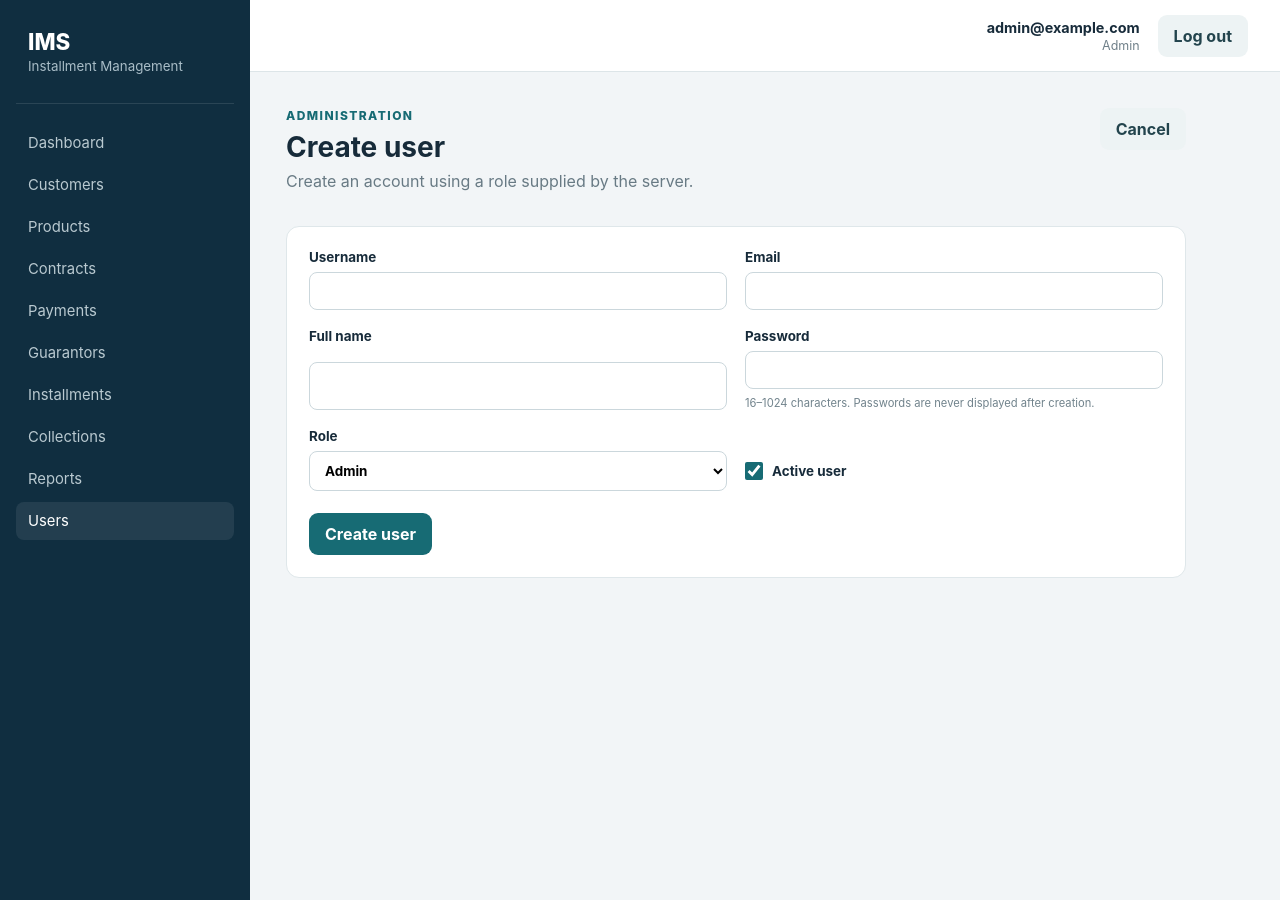
Scenario: Users management › creates with the exact DTO and backend role options
Step 1. Type "new-user" into the field labelled "Username" → (518, 291), box top-left (309, 272), bottom-right (727, 310)
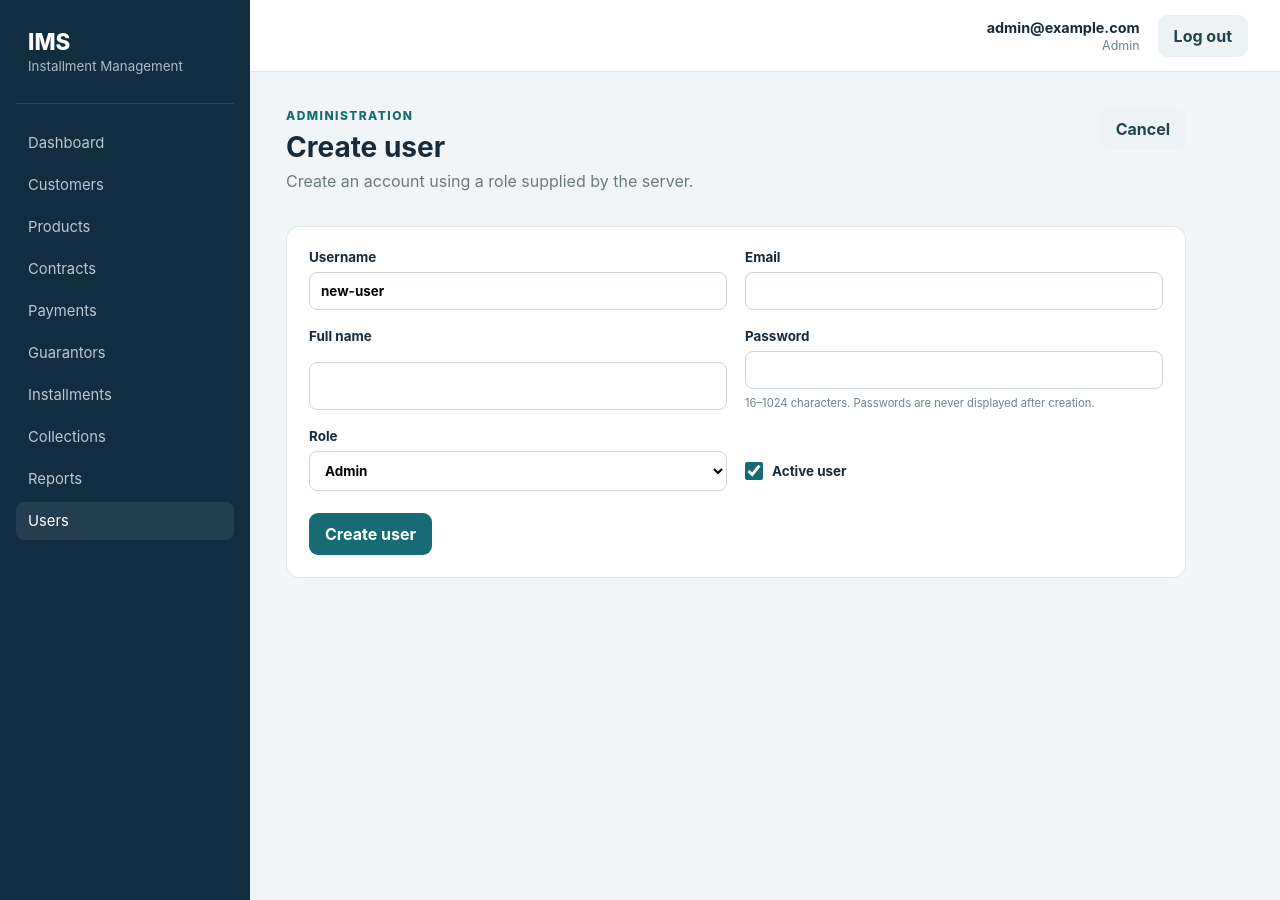
Step 2. Type "new@example.com" into the field labelled "Email" → (954, 291), box top-left (745, 272), bottom-right (1163, 310)
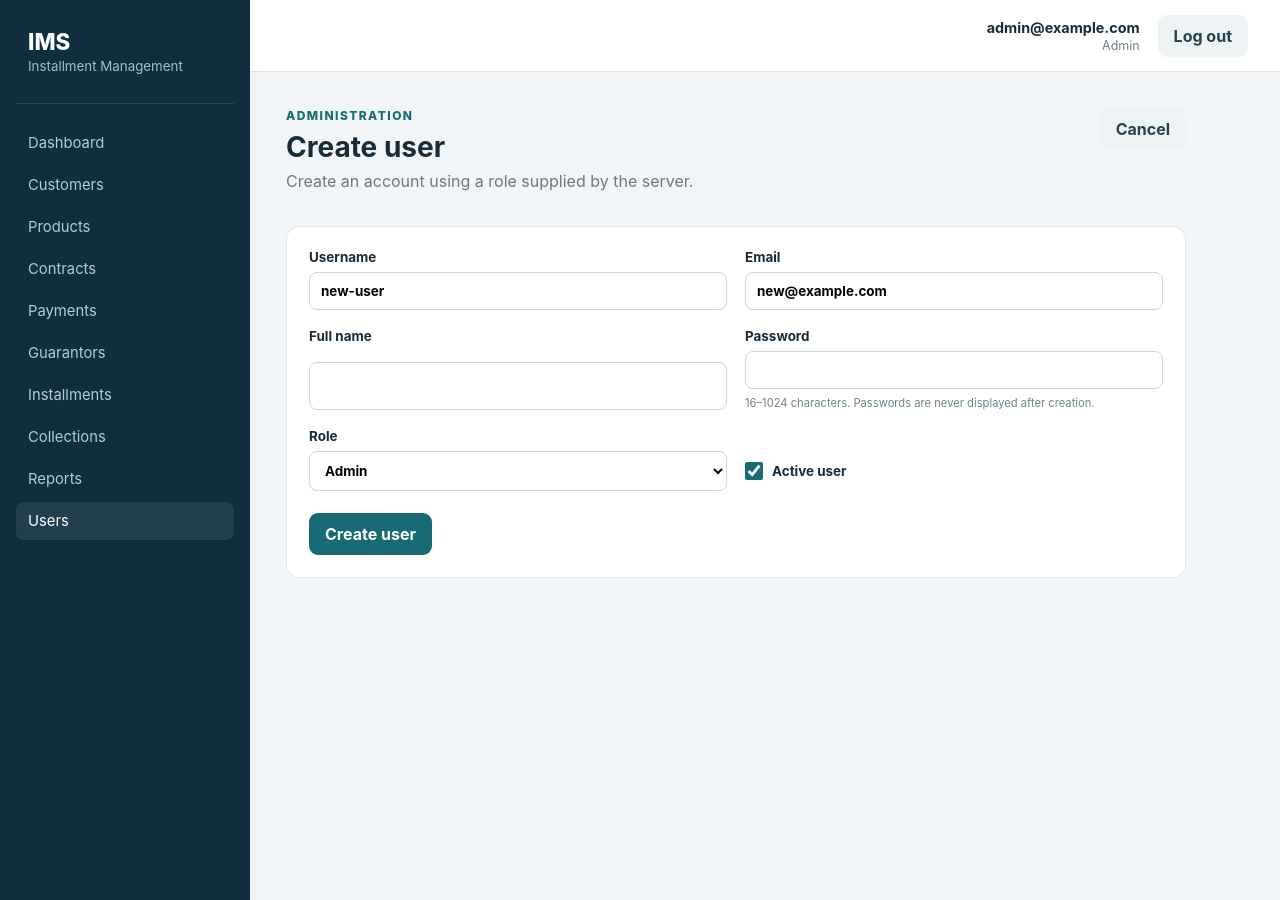
Step 3. Type "New User" into the field labelled "Full name" → (518, 386), box top-left (309, 362), bottom-right (727, 410)
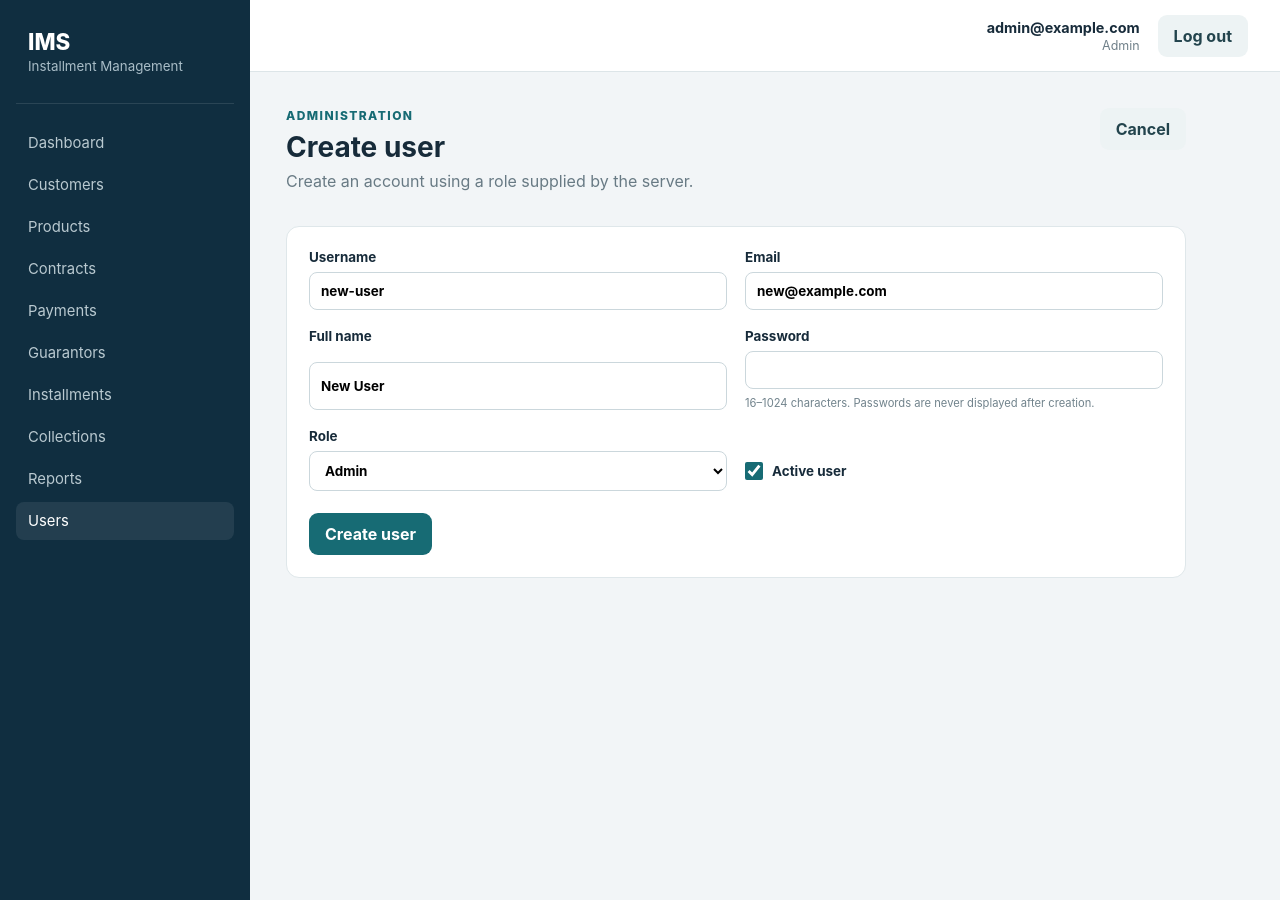
Step 4. Type "sixteen-character-password" into the password field labelled "Password" → (954, 370), box top-left (745, 351), bottom-right (1163, 389)
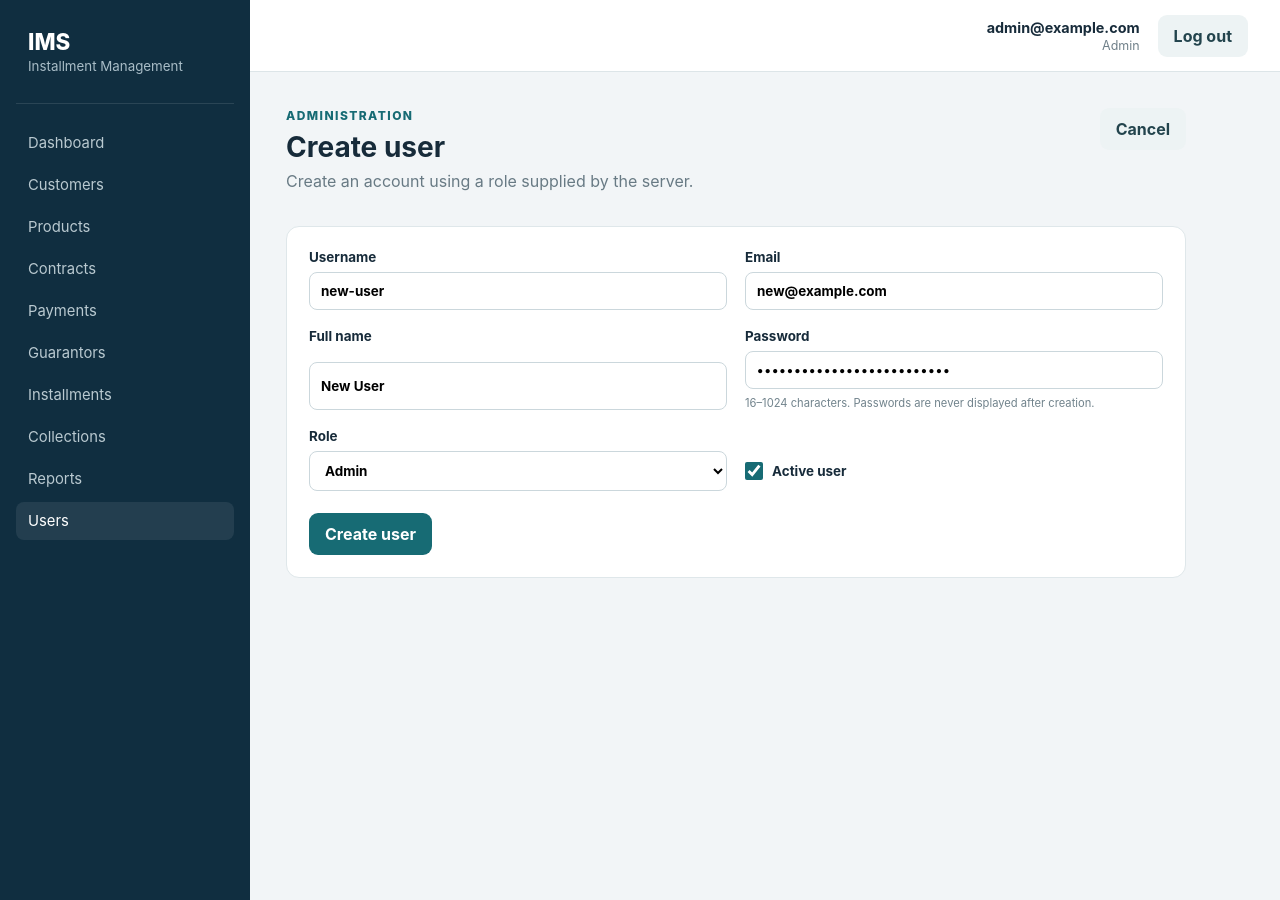
Step 5. Select "Auditor" in the dropdown labelled "Role" → (518, 471), box top-left (309, 451), bottom-right (727, 491)
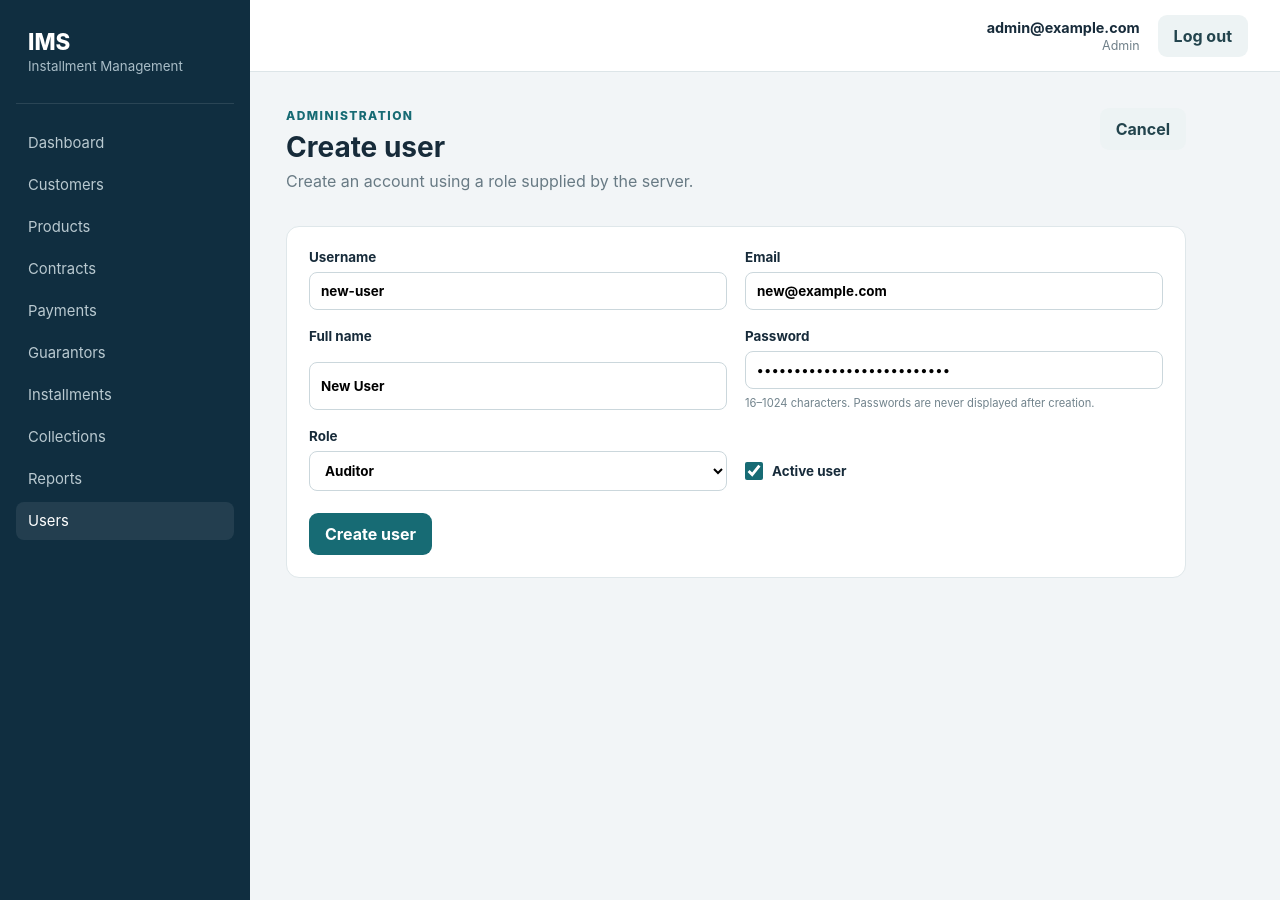
Step 6. Click the button "Create user" → (370, 534), box top-left (309, 513), bottom-right (432, 555)
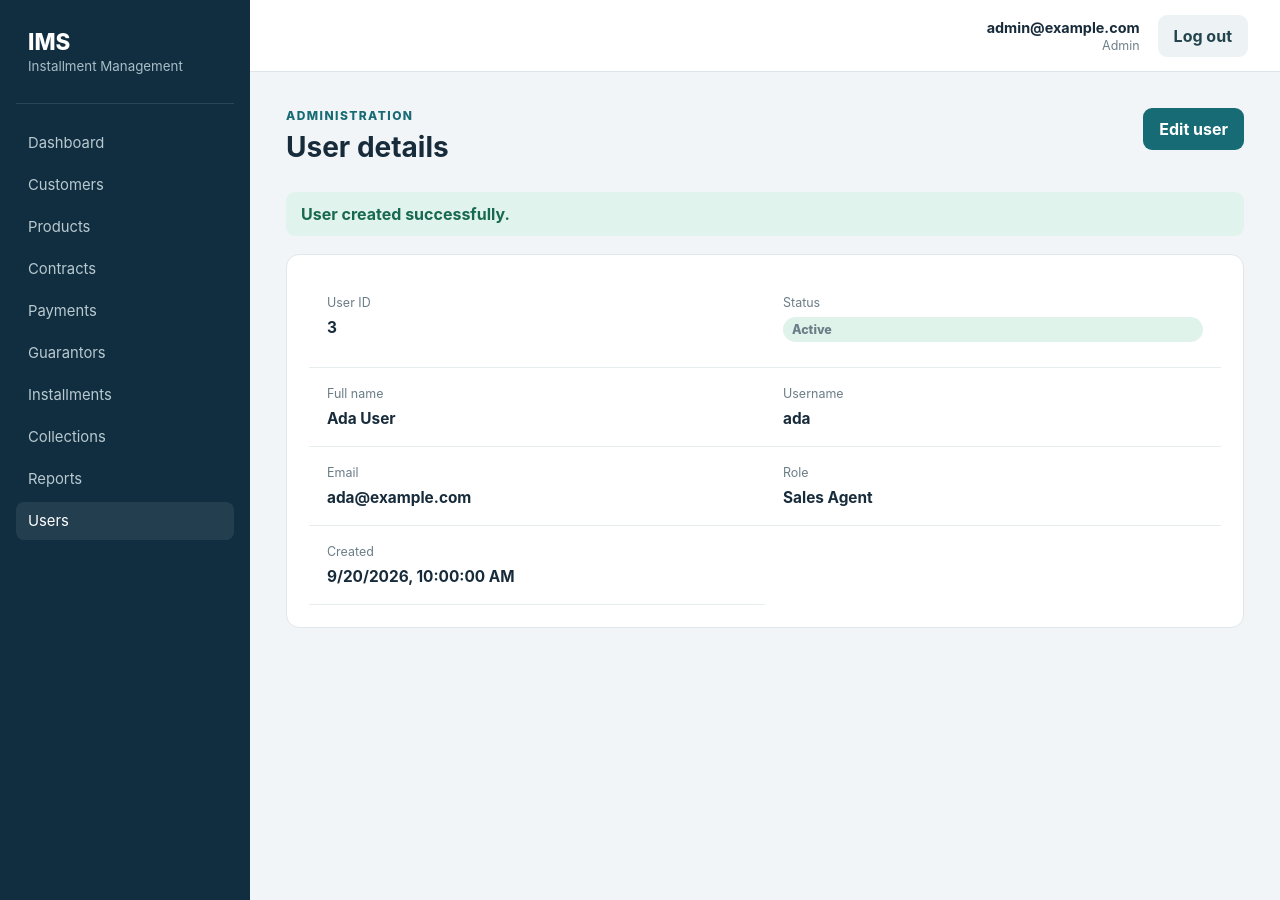
Expected: the text "User created successfully." is shown, top-left (286, 192), bottom-right (1244, 236)
